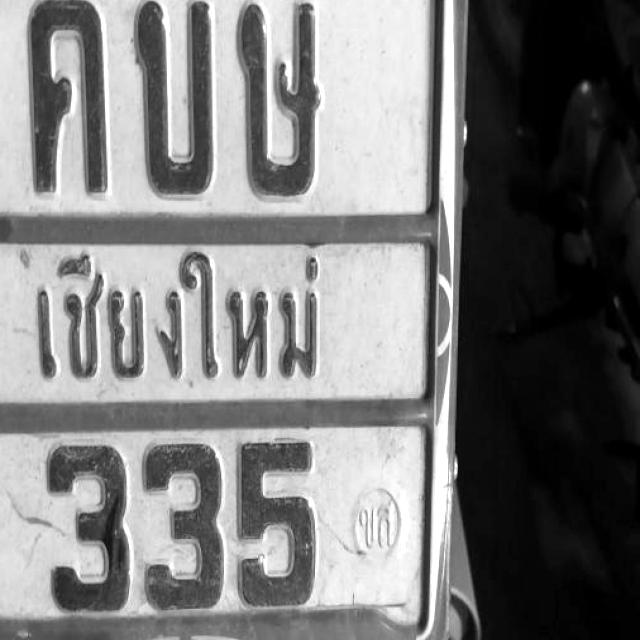letters: (116, 1, 222, 202), (18, 0, 111, 200), (232, 8, 332, 194), (30, 441, 138, 612), (134, 433, 230, 595), (236, 435, 324, 604)
license-plate: (0, 0, 462, 640)
province: (0, 230, 383, 398)
